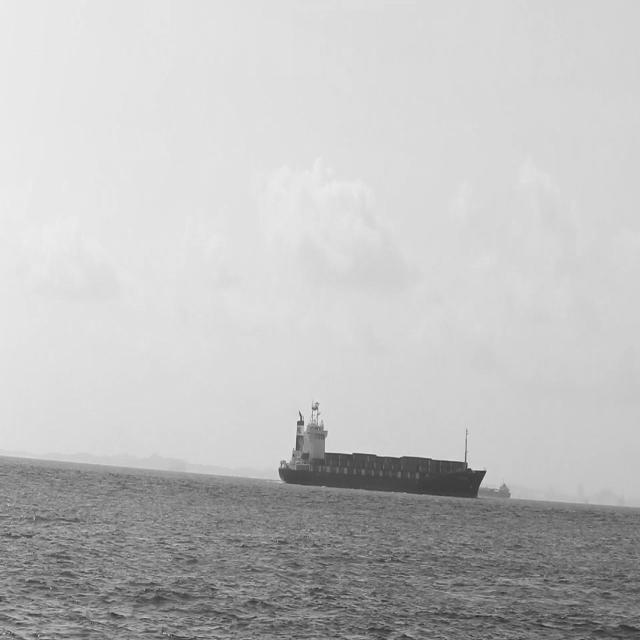ship: (275, 390, 485, 486), (478, 469, 514, 497)
